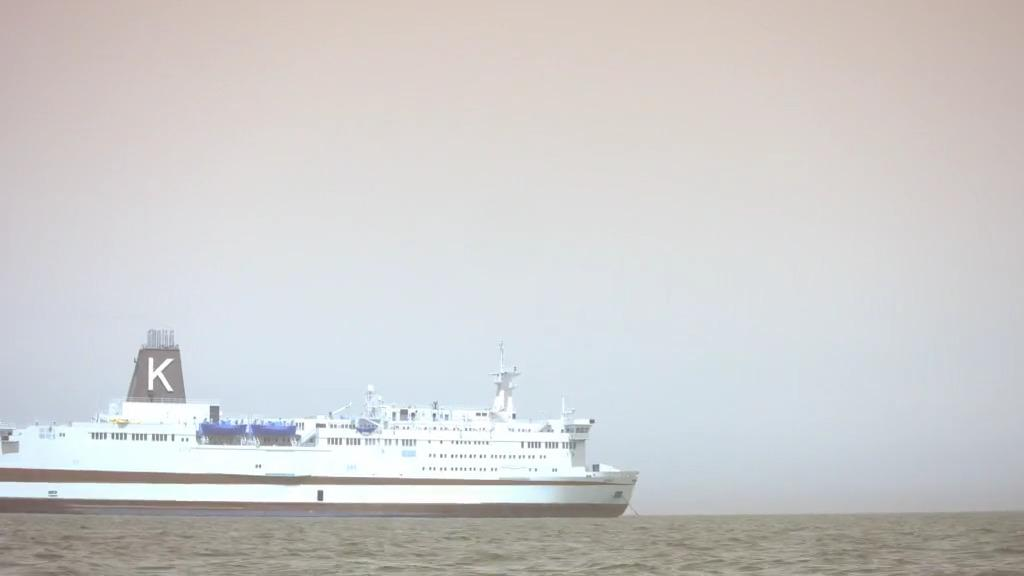PassengerShip: (0, 327, 644, 520)
